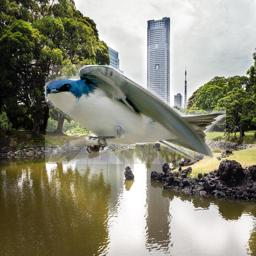Swallow: (45, 65, 226, 164)
